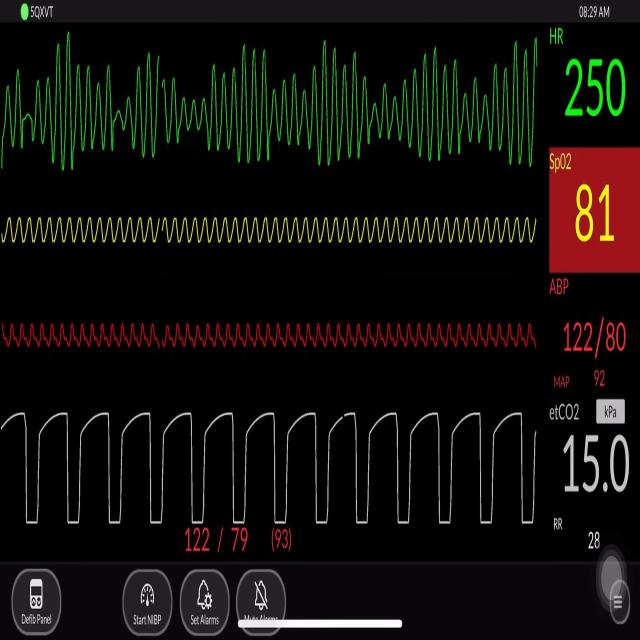danger: (10, 38, 548, 176)
